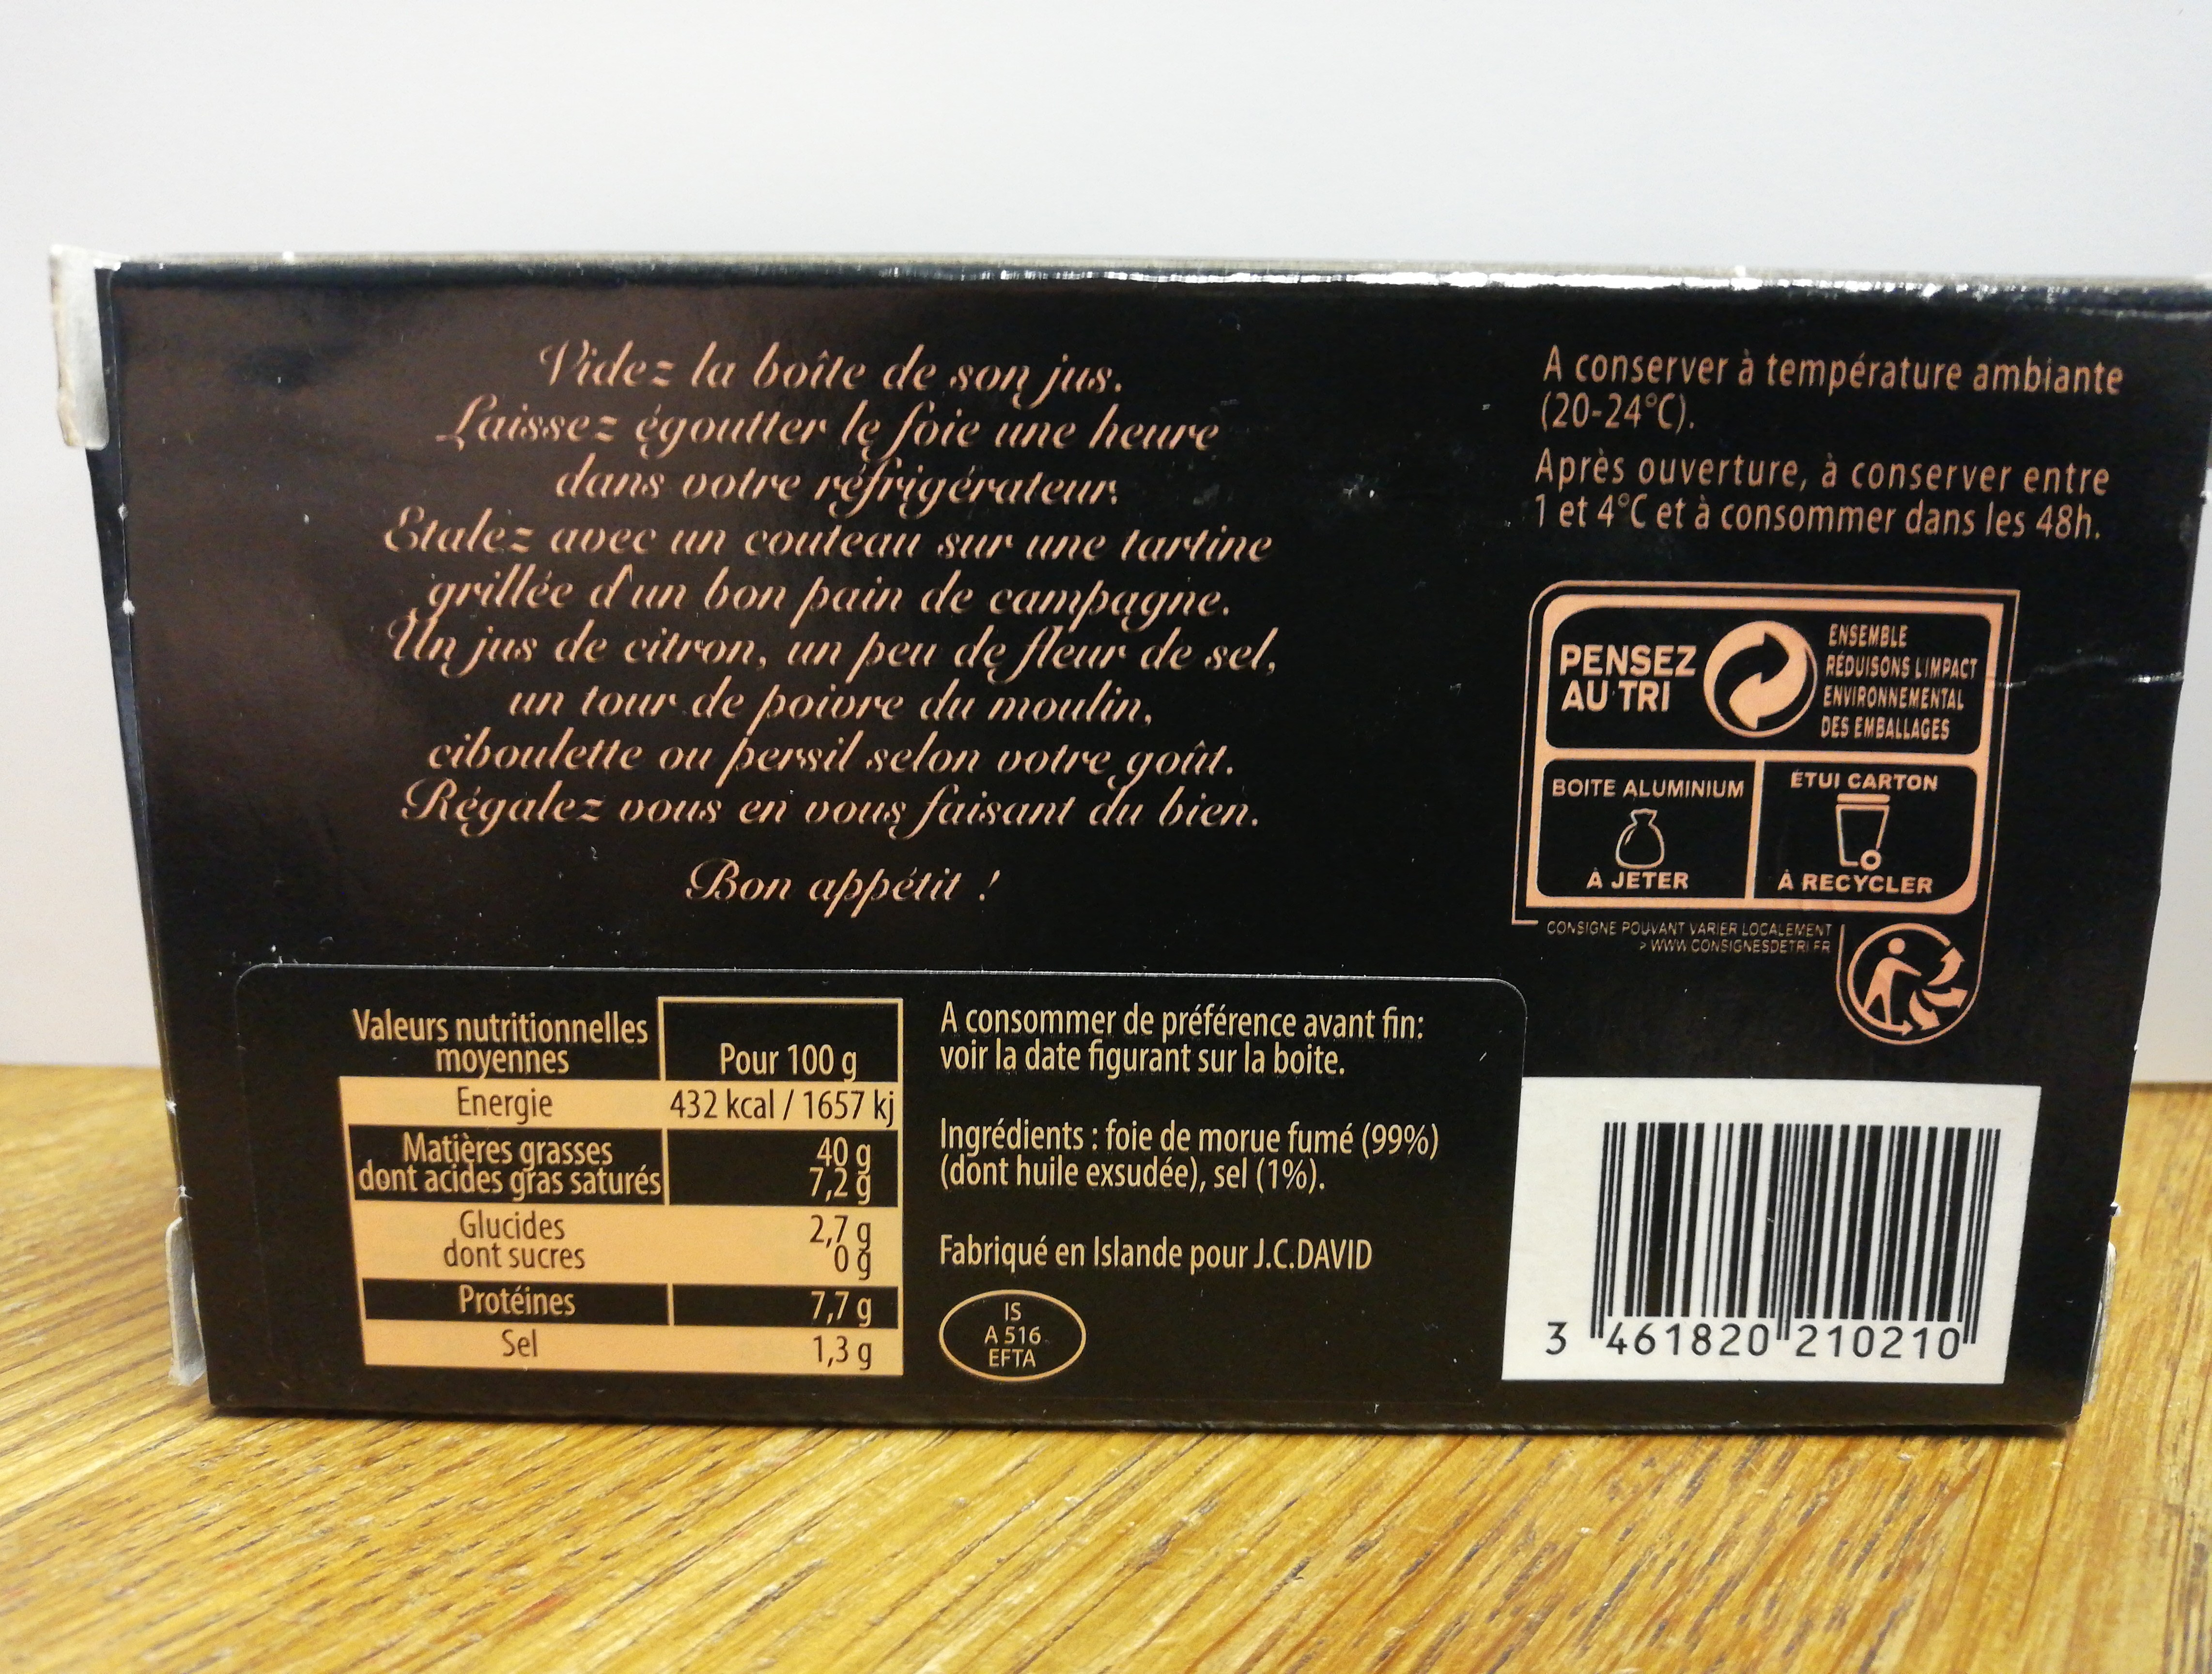column: (346, 1006, 659, 1363), (672, 1006, 895, 1375)
table: (331, 976, 911, 1391)
